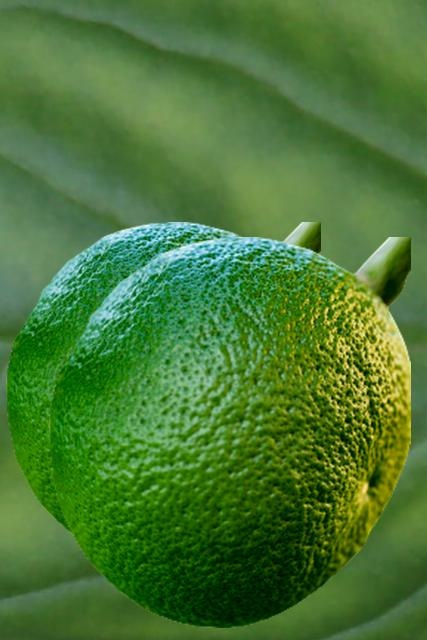dalandan: (49, 237, 409, 626), (6, 222, 319, 537)
